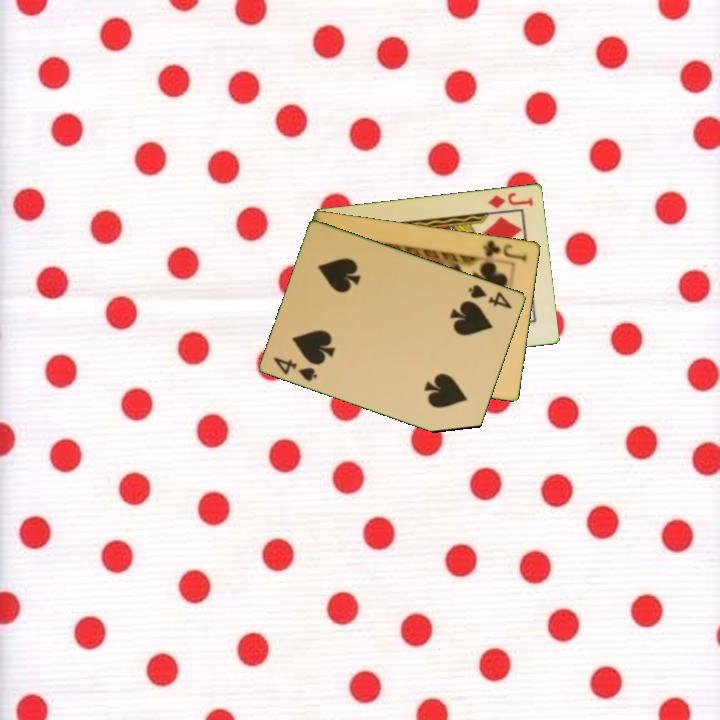4s: (270, 353, 321, 384), (465, 281, 515, 311)
Jc: (479, 237, 530, 264)
Jd: (485, 188, 536, 211)
